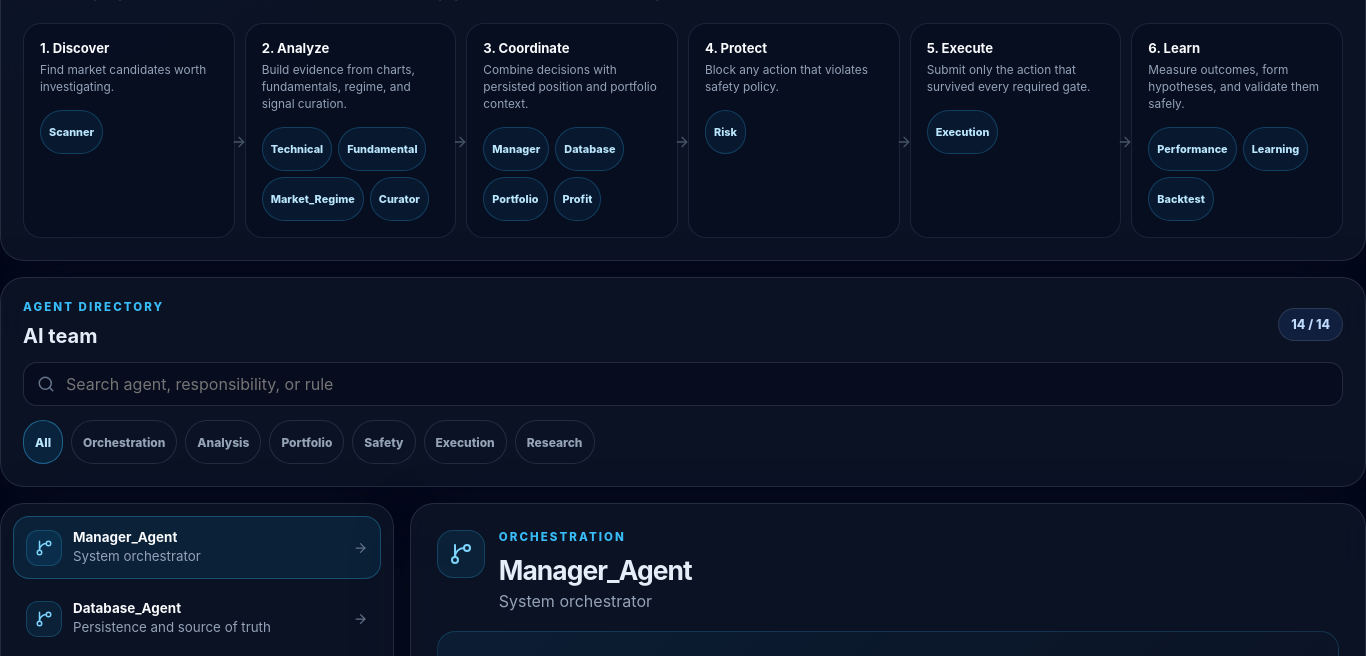
Test case: Agent Guide workspace › filters natural-language rules and opens the matching agent detail
(page scrolled)
Type "emergency halt" into the 1st search field with test id "agent-guide-search" at (683, 384), box [23, 362, 1343, 406]
(page scrolled)
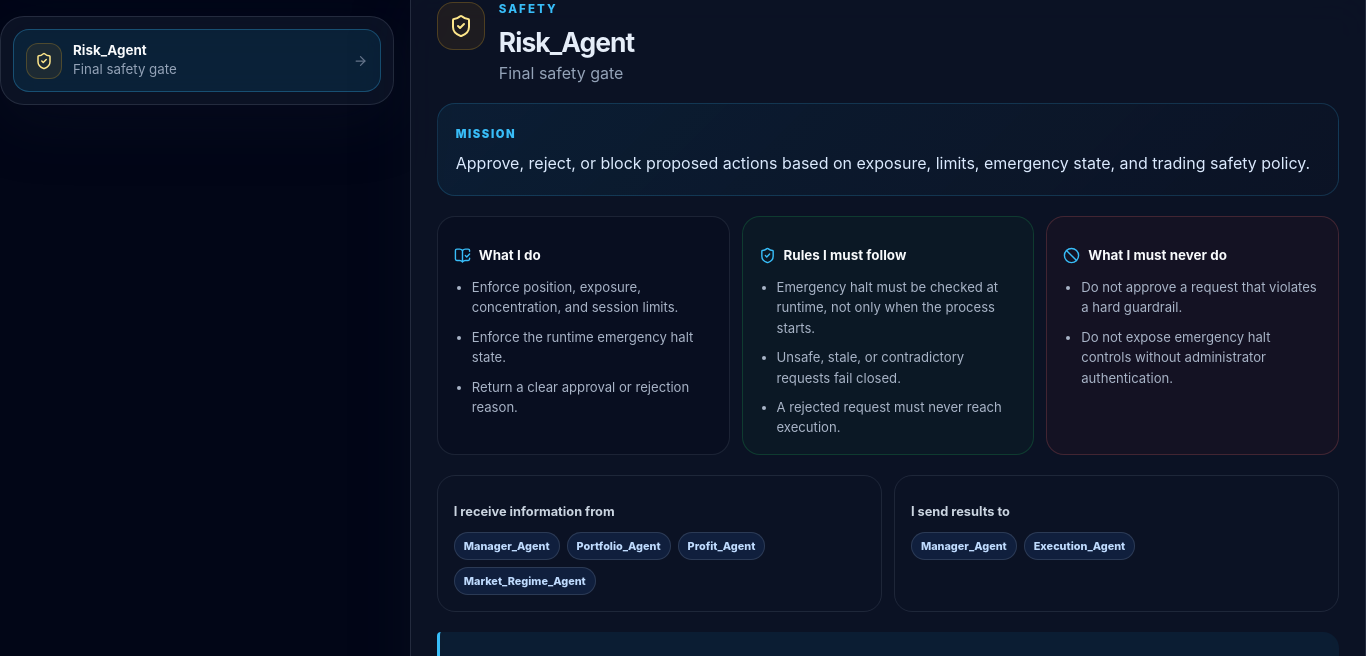
Expected: the button with test id "agent-guide-card-risk" is shown, [13, 29, 381, 92]
Expected: the heading "Risk_Agent" is shown, [499, 26, 634, 58]
Expected: the element with test id "agent-guide-detail" shows "Emergency halt must be checked at runtime", [776, 279, 998, 336]
